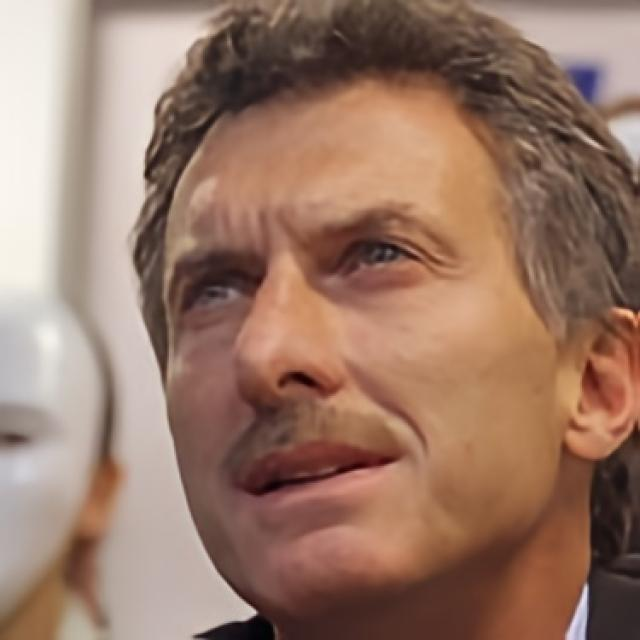anger: (157, 65, 557, 632)
